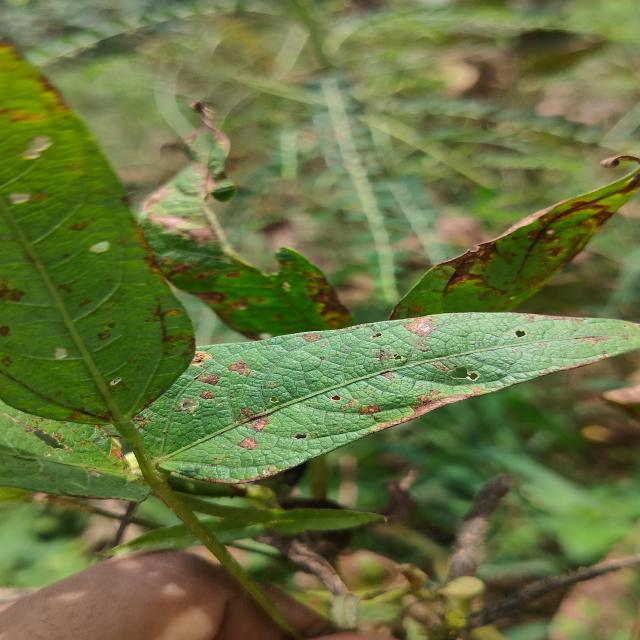Black gram_leaf spot: (97, 313, 640, 482), (114, 101, 363, 410), (0, 44, 193, 425), (380, 140, 640, 399)
